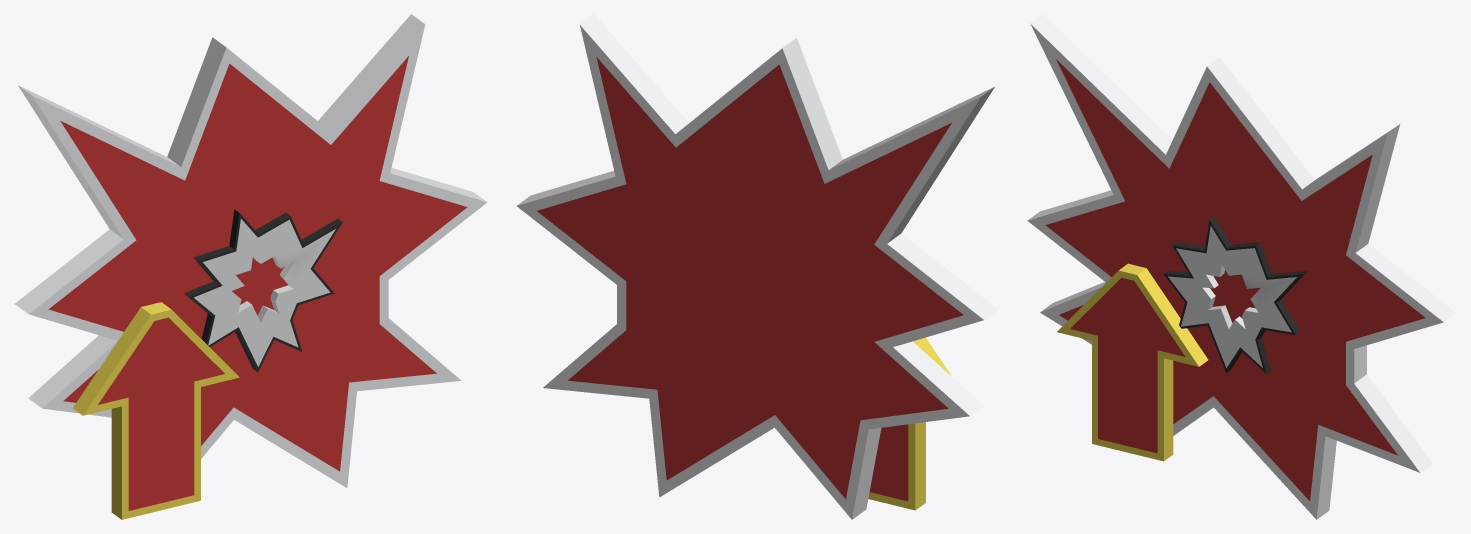
The model's file is attack.fbx.
3 renders of one model, left to right at view 1: azimuth 30°, elevation 25°; view 2: azimuth 150°, elevation 25°; view 3: azimuth 330°, elevation 25°, orthographic. The views are drawn at different scales.
Visible parts, largest first — view 1: pPlane5; view 2: pPlane5; view 3: pPlane5.
Part boxes in pixels (box(x1,y1,x2,y2)): pPlane5: box(15, 14, 487, 519); pPlane5: box(517, 14, 998, 519); pPlane5: box(1027, 14, 1456, 519).
Size of the model in its own units: 2.01 by 1.97 by 0.1913.
